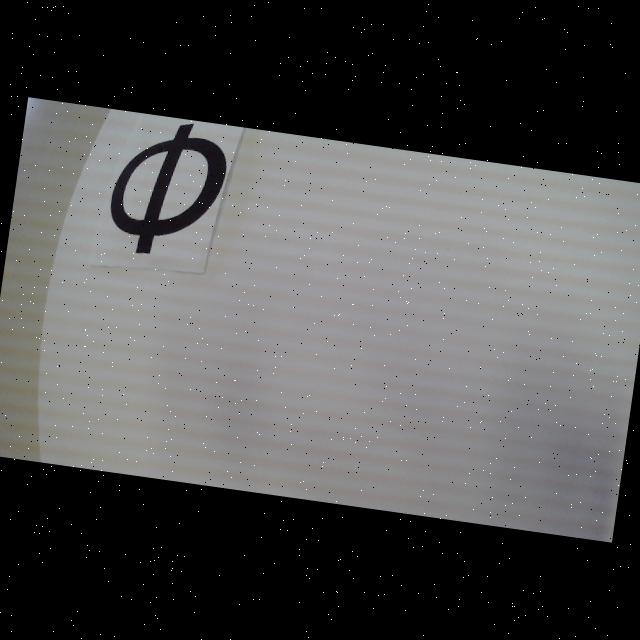PHI: (104, 113, 233, 264)
